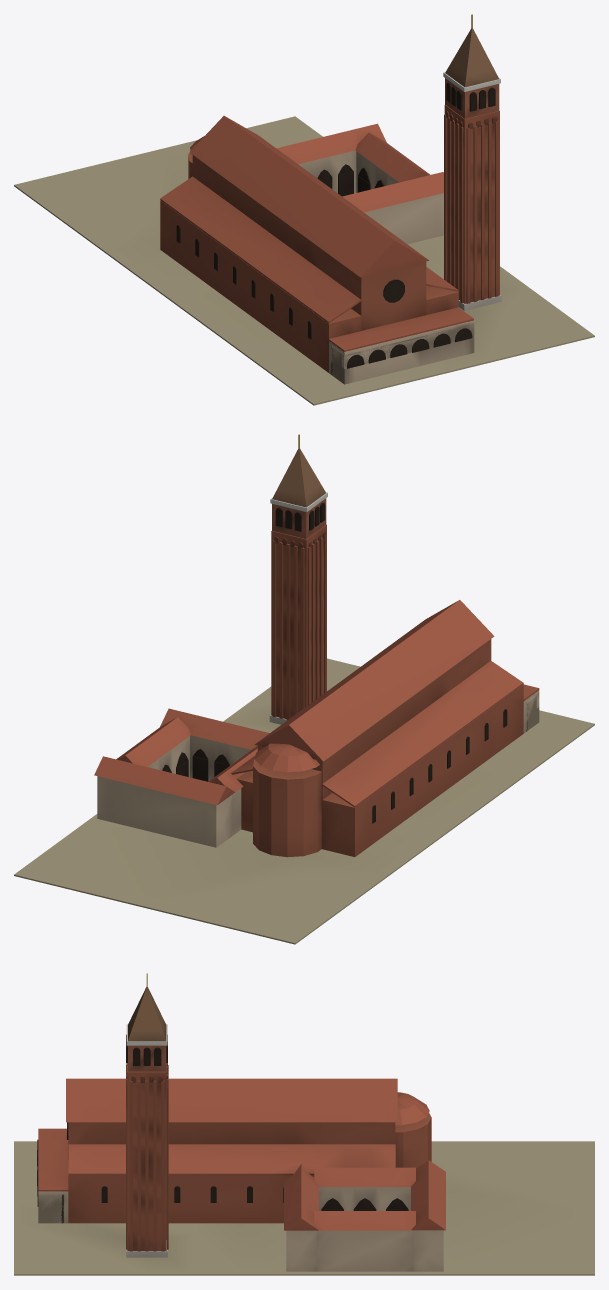
The model's file is san-giorgio-old.glb.
The picture shows the model from 3 angles, top to bottom: view 1: azimuth 30°, elevation 25°; view 2: azimuth 150°, elevation 25°; view 3: azimuth 270°, elevation 25°; orthographic projection. The views are drawn at different scales.
Visible parts, largest first — view 1: p0_walls, p1_roofs, p2_campanile; view 2: p0_walls, p1_roofs, p2_campanile; view 3: p0_walls, p1_roofs, p2_campanile.
Boxes of the visible parts, x1,y1,x2,y2 form: p0_walls: [14, 116, 594, 405]; p1_roofs: [160, 116, 473, 351]; p2_campanile: [443, 14, 501, 310]; p0_walls: [14, 639, 594, 944]; p1_roofs: [94, 600, 539, 807]; p2_campanile: [269, 434, 327, 724]; p0_walls: [14, 1113, 594, 1275]; p1_roofs: [38, 1078, 445, 1230]; p2_campanile: [126, 973, 168, 1257].
Bounding box in the file's own units: 52 × 50.46 × 96.
